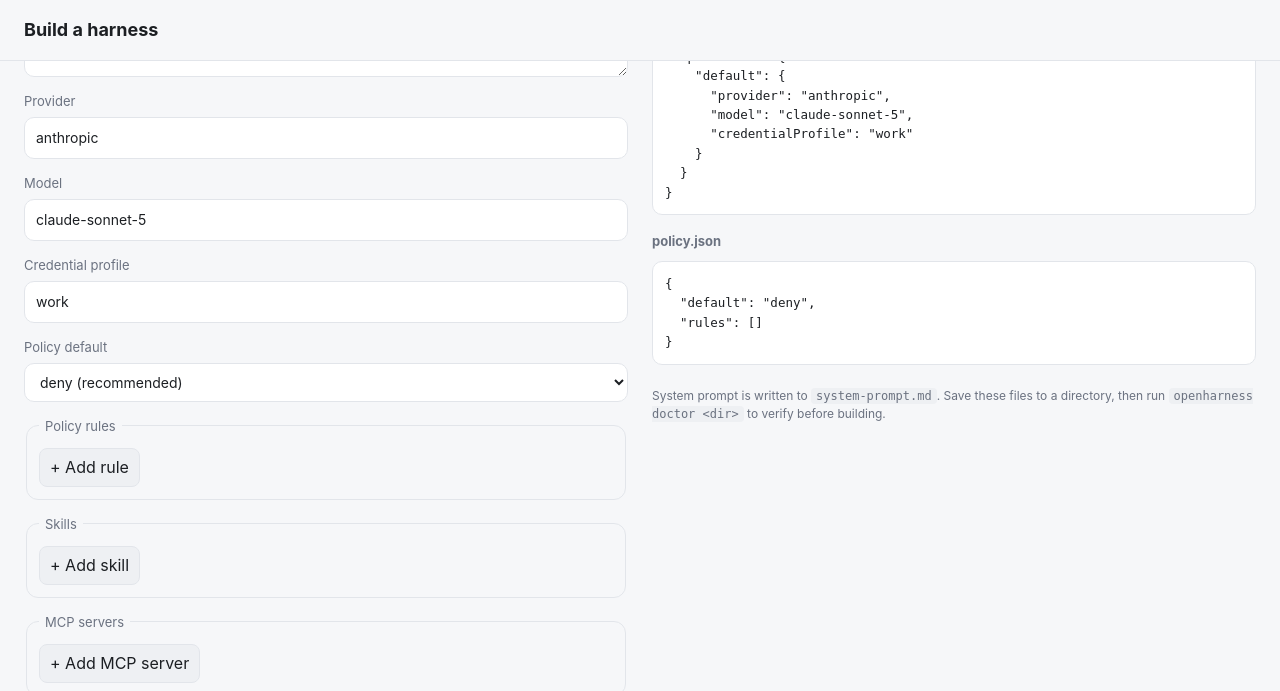
it: adding a rule updates the live policy.json preview
(page scrolled)
Click the button "+ Add rule": {"x": 89, "y": 467} [39, 448, 140, 487]
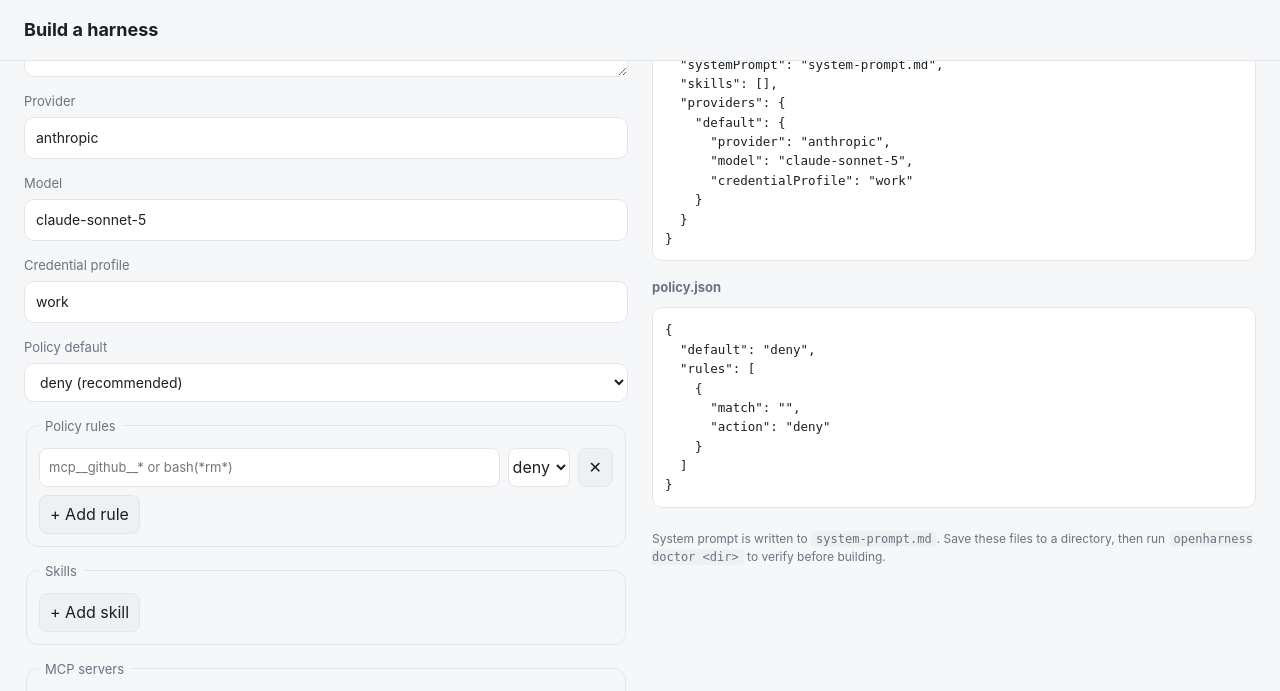
In the field named "Rule 1 match": {"x": 269, "y": 467} [39, 448, 500, 487], type "mcp__github__*"
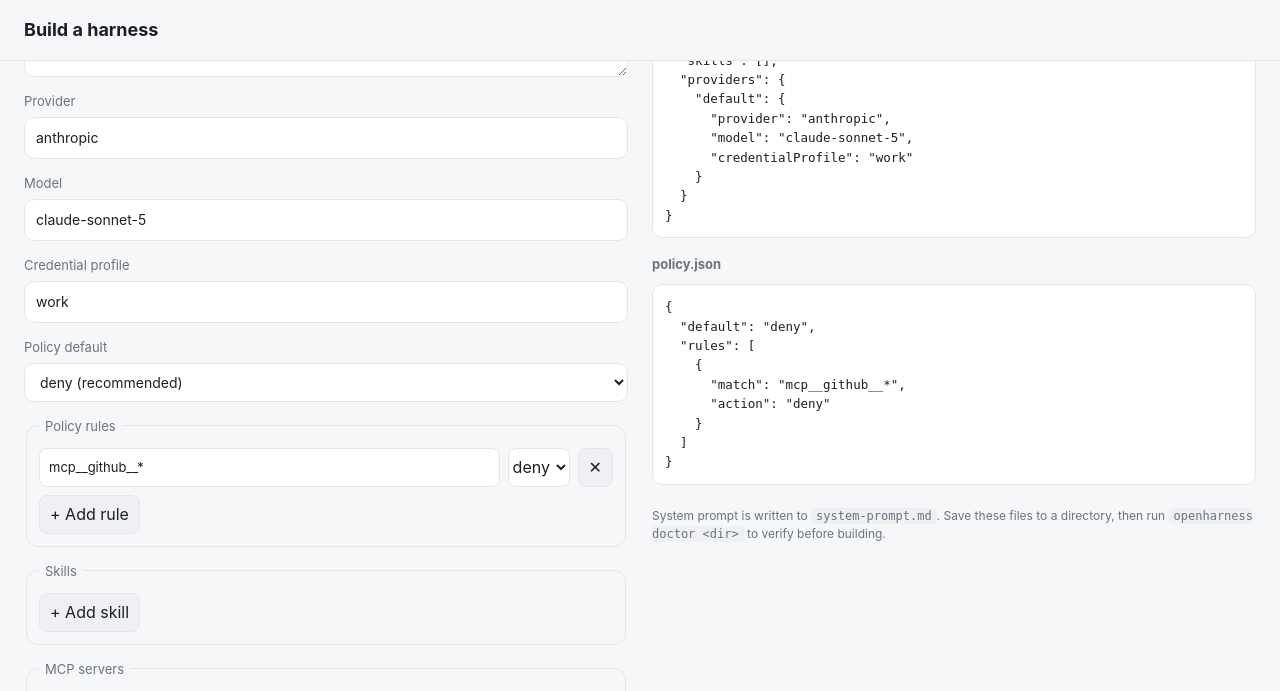
Select "ask" in the dropdown named "Rule 1 action": {"x": 539, "y": 467} [508, 448, 570, 487]
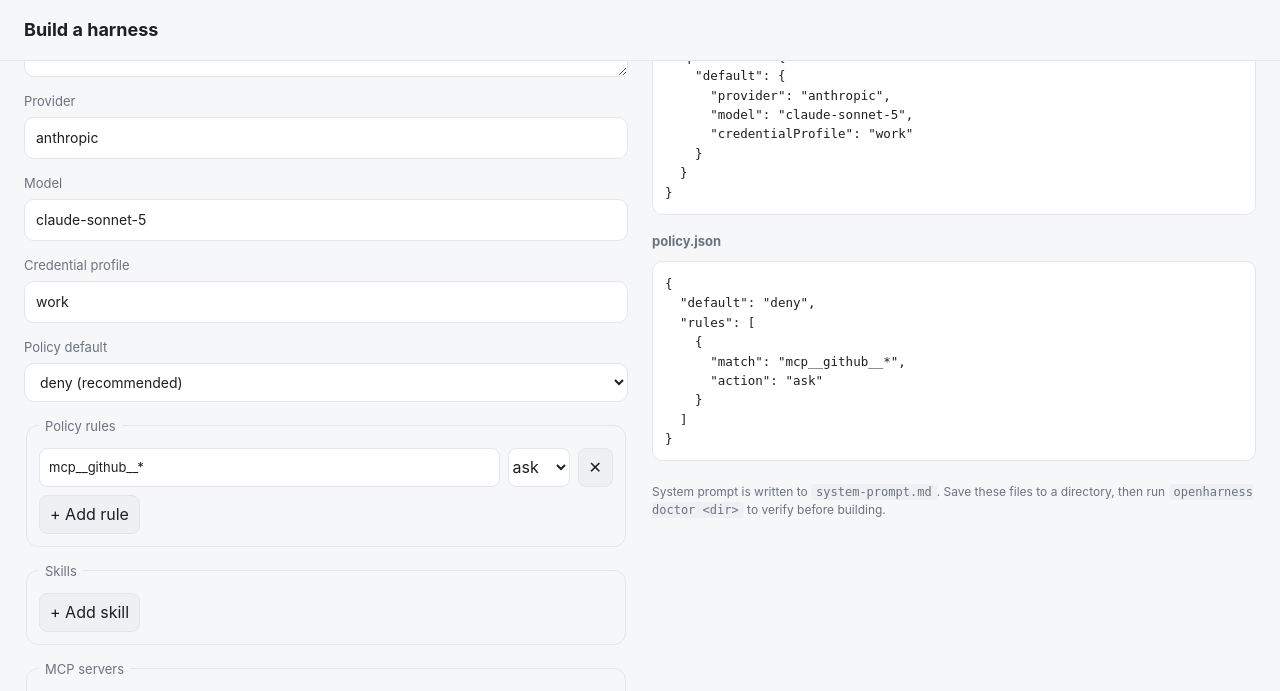
expect the text named "policy.json preview" shows "\"match\": \"mcp__github__*\"": met, box [665, 276, 906, 446]
expect the text named "policy.json preview" shows "\"action\": \"ask\"": met, box [665, 276, 906, 446]
